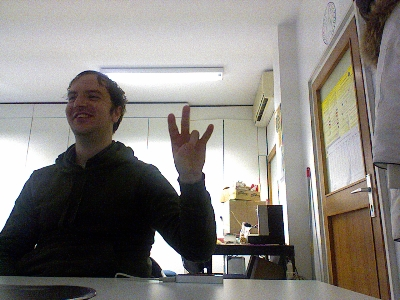观音: (166, 103, 214, 178)
